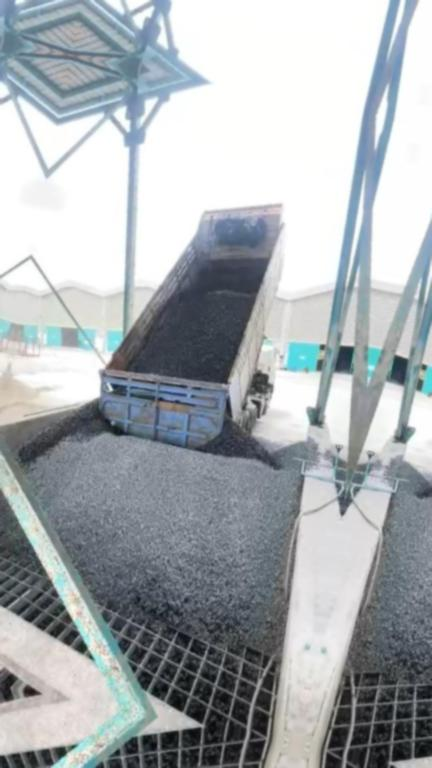gravel: (15, 400, 320, 648), (126, 260, 266, 383), (0, 469, 40, 568)
sand: (0, 375, 66, 422)
